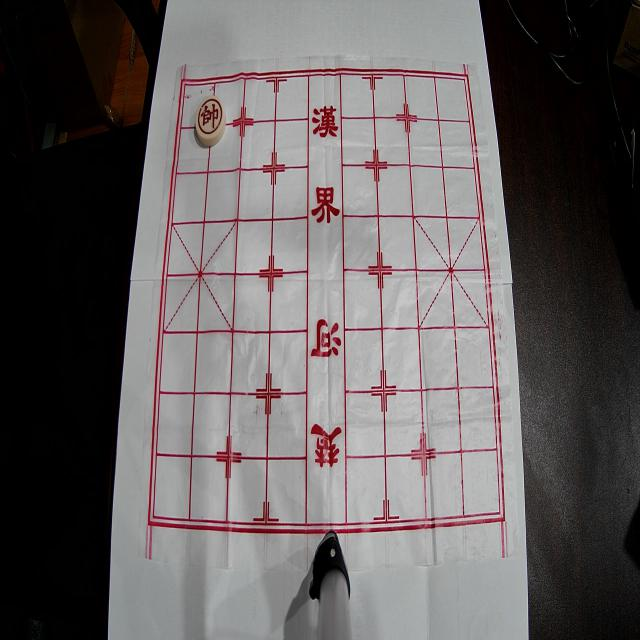red-general: (195, 96, 226, 146)
